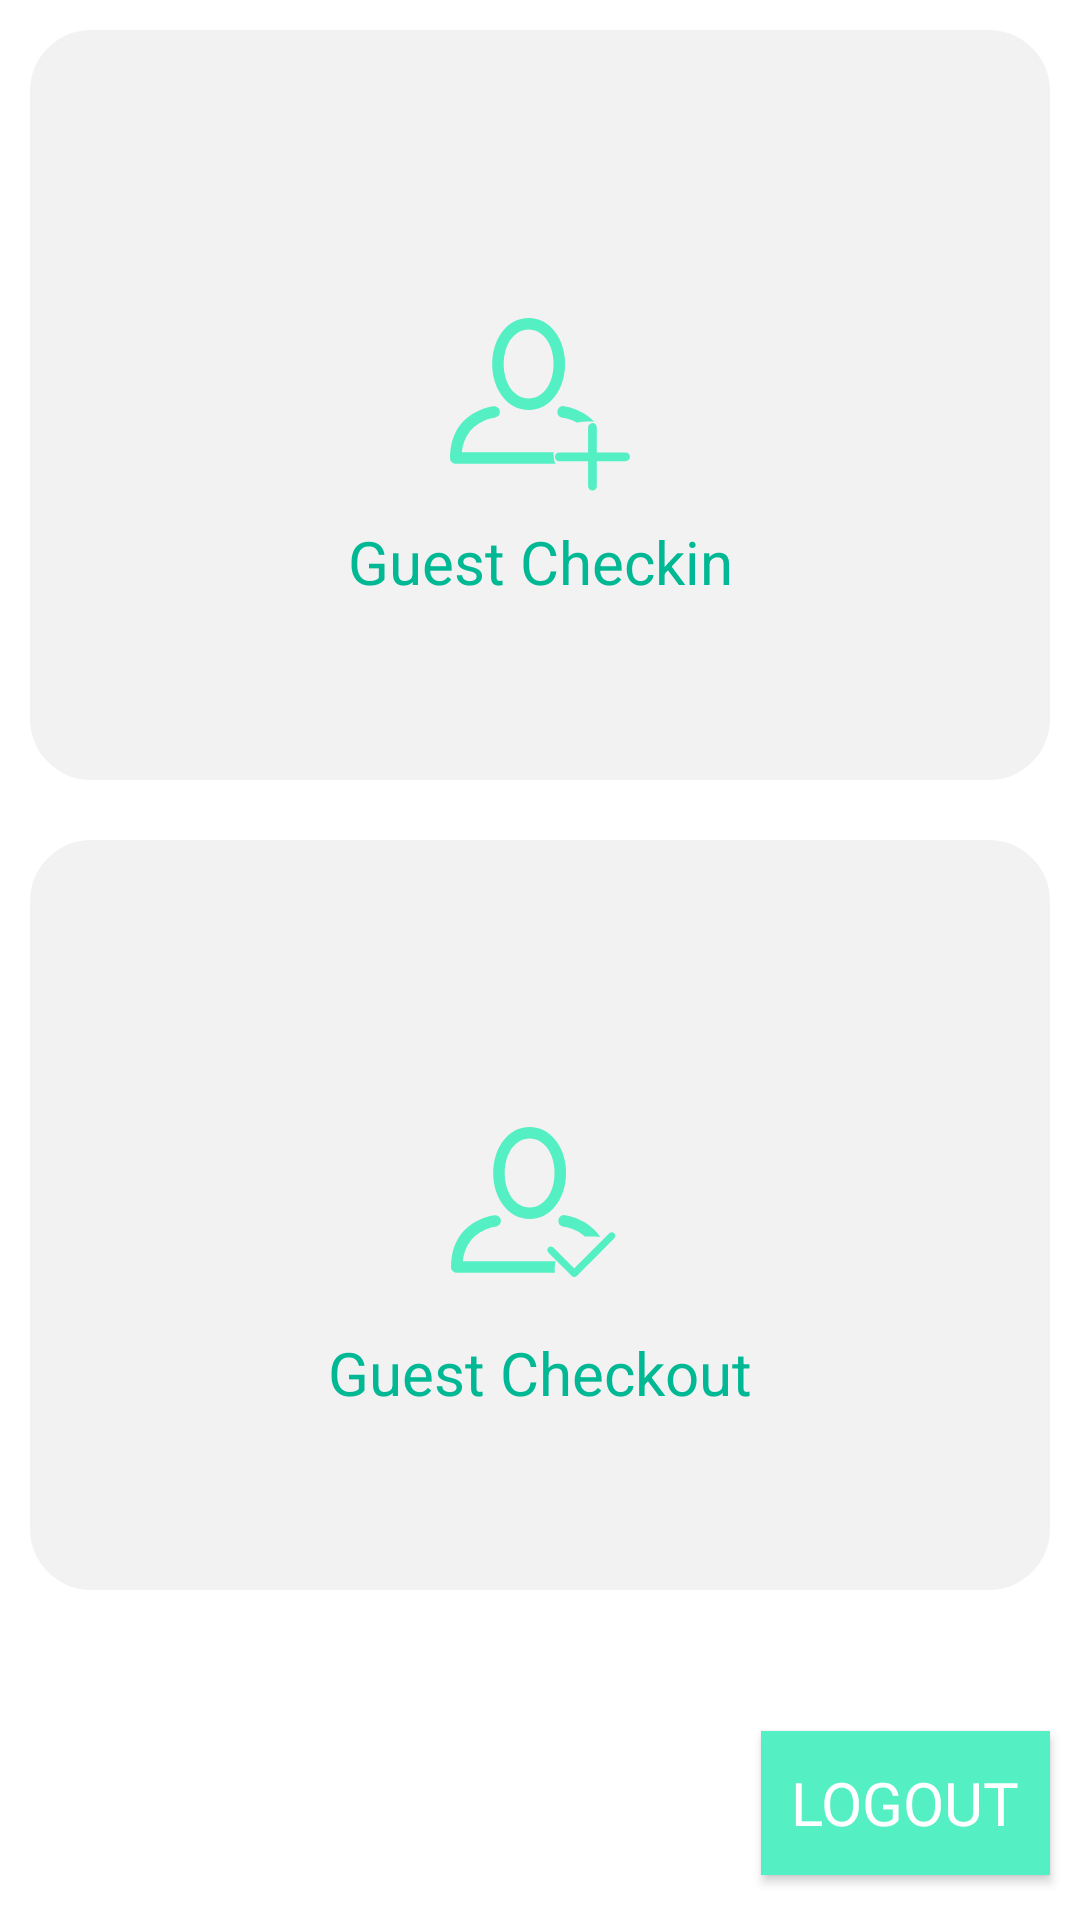

Icon bounding boxes for this 1080px x 1920px phone screenshot, format (x1, y1, x2, y2):
guest add: (450, 318, 630, 491)
